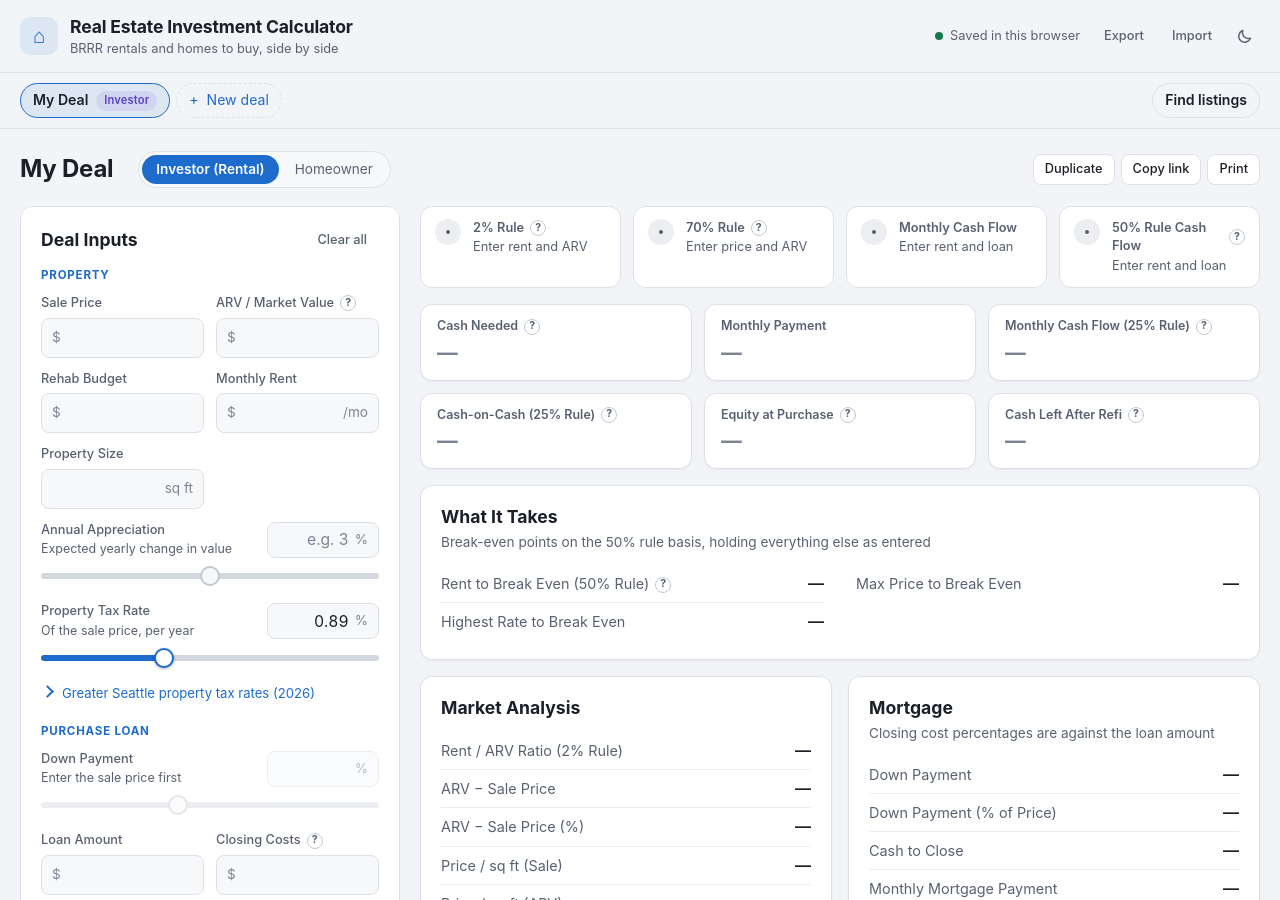
Scenario: App › solves for the rent, price, and rate that break even
Type "400000" into the field labelled "Sale Price".
click(130, 338); type("400000")  # box [67,319,193,357]
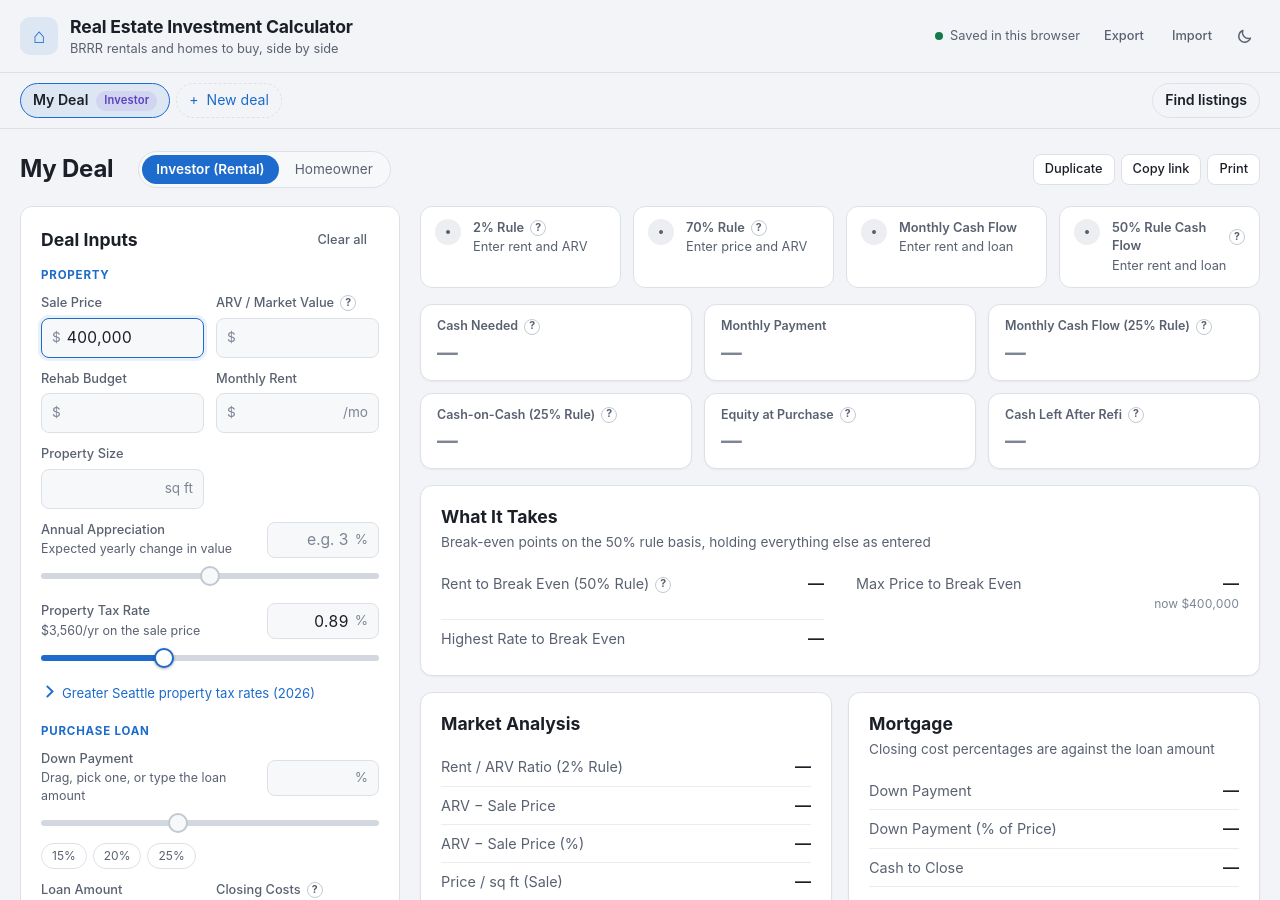
Type "3200" into the field labelled "Monthly Rent".
click(289, 413); type("3200")  # box [242,394,337,432]
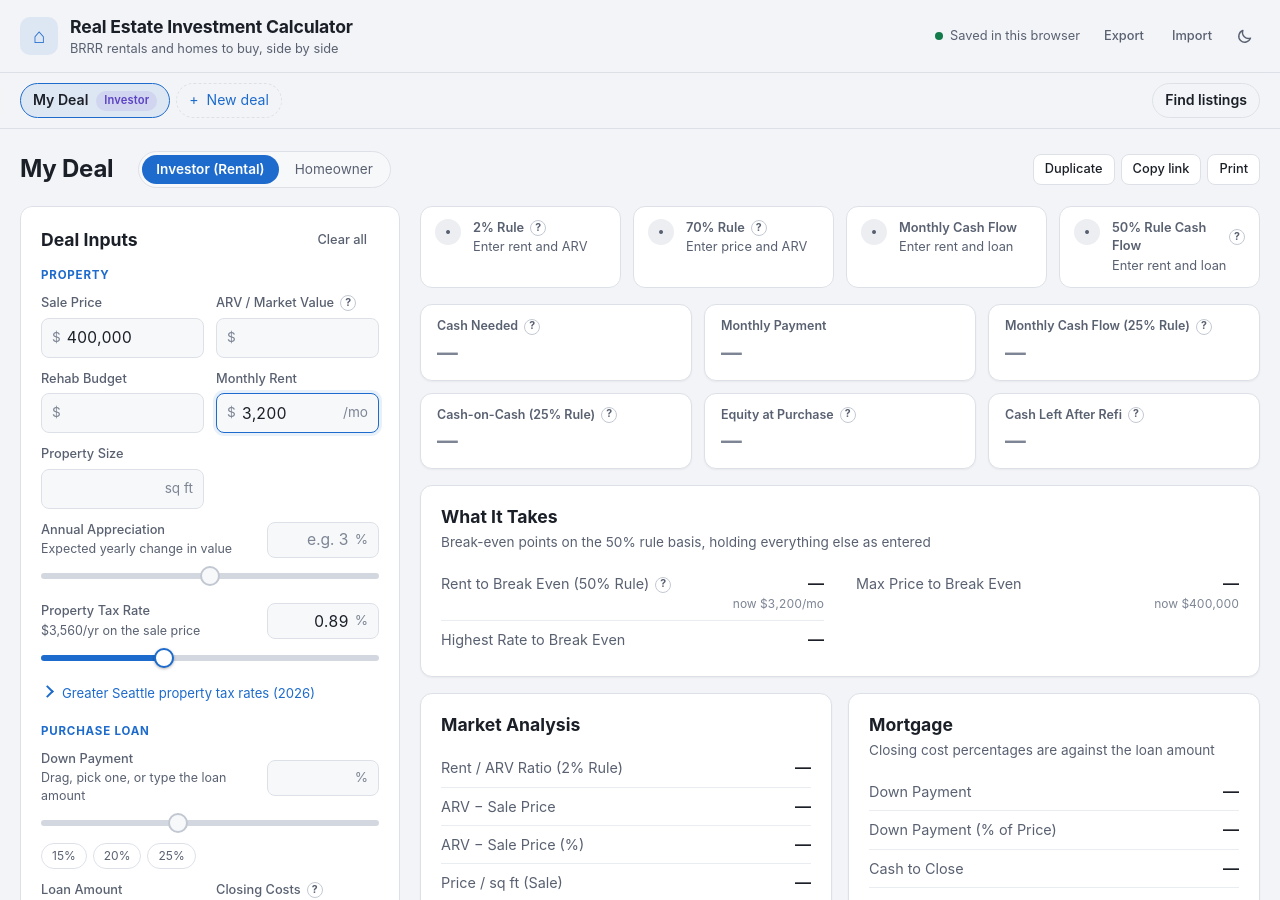
Click the button "20%".
click(117, 856)  # box [93,844,142,869]
(page scrolled)
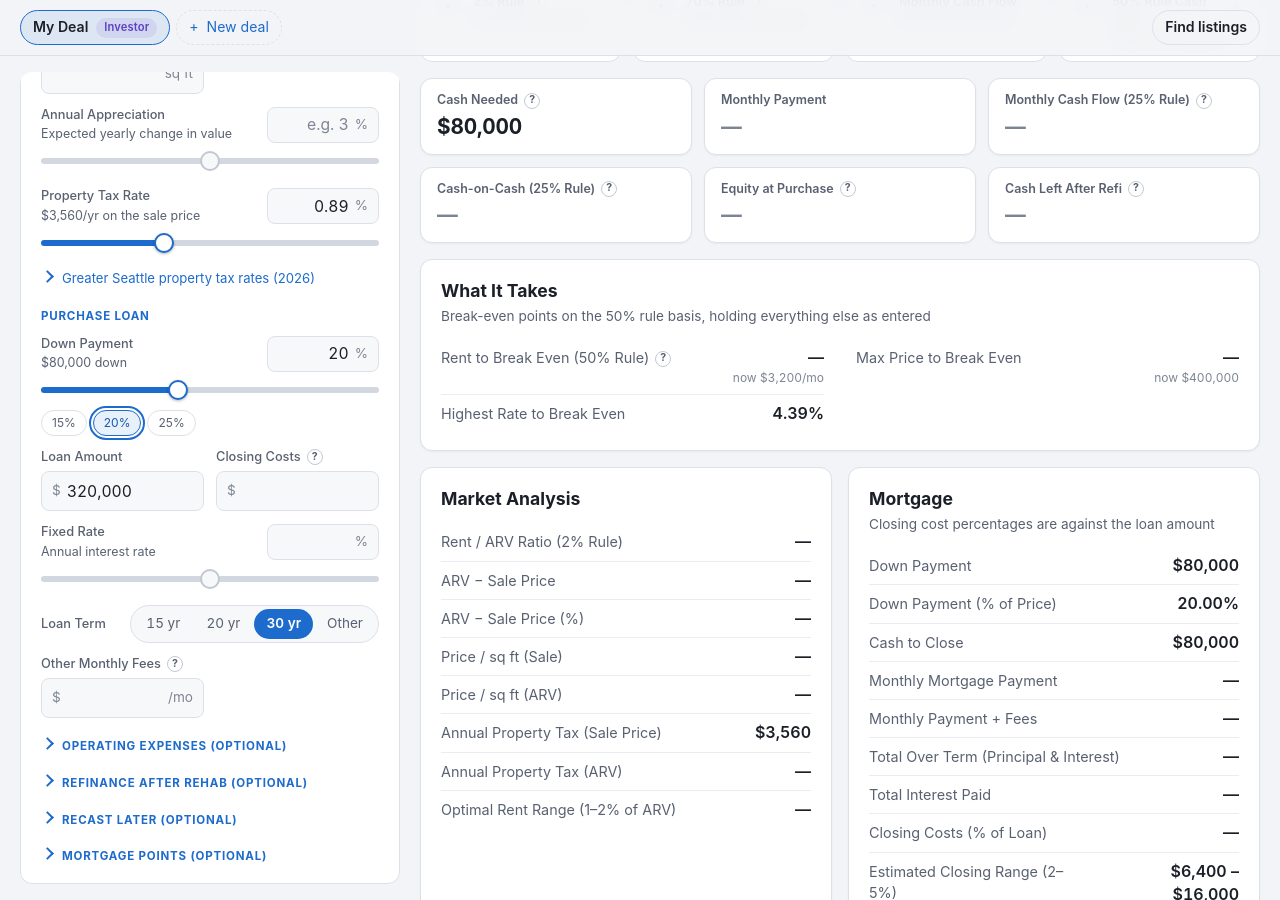
Type "6.5" into the field labelled "Fixed Rate".
click(313, 542); type("6.5")  # box [278,525,349,559]
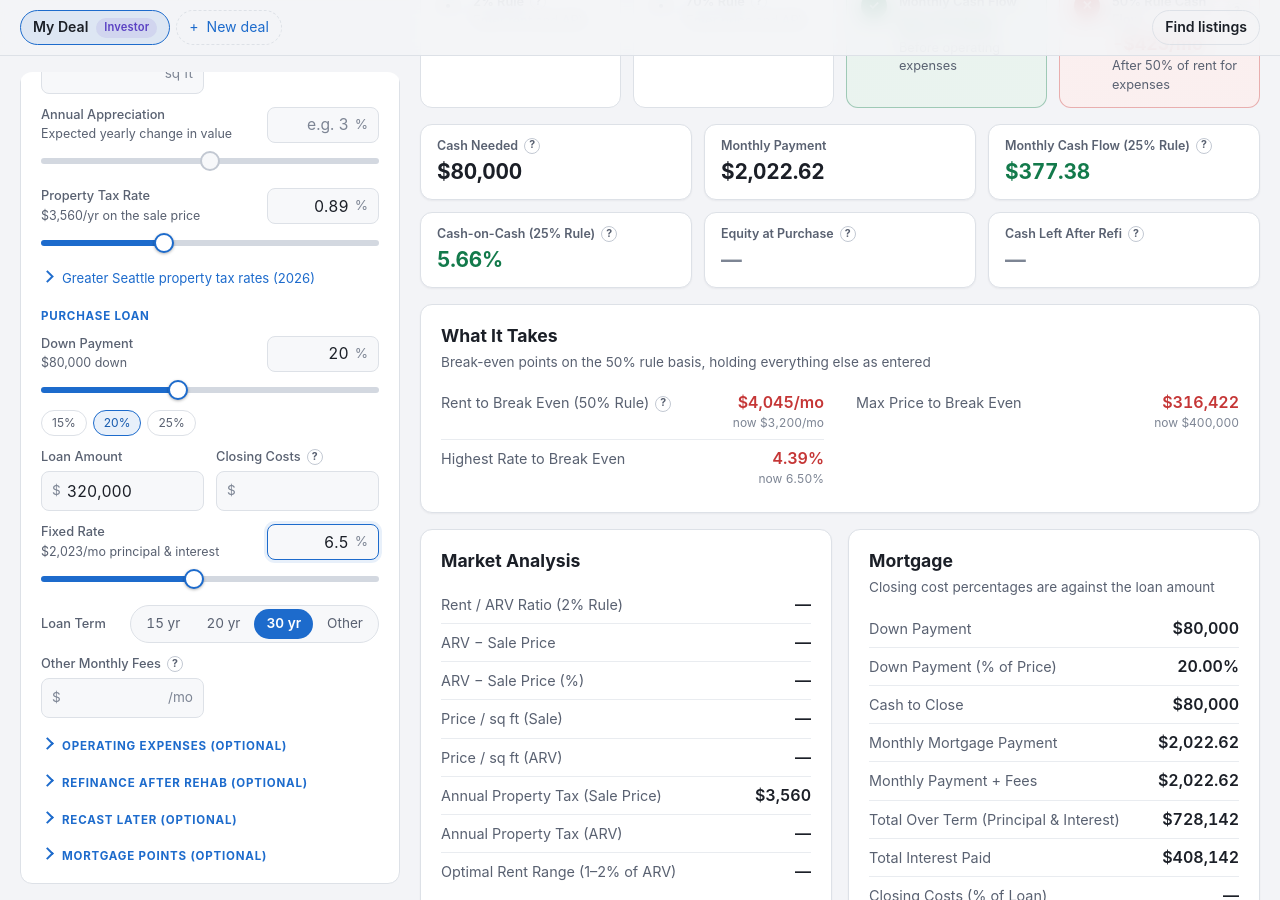
Now the text "now $3,200/mo" is shown, box [733,414,824,432]
Now the text "$4,045/mo" is shown, box [738,391,824,414]
Now the text "$316,422" is shown, box [1162,391,1239,414]
